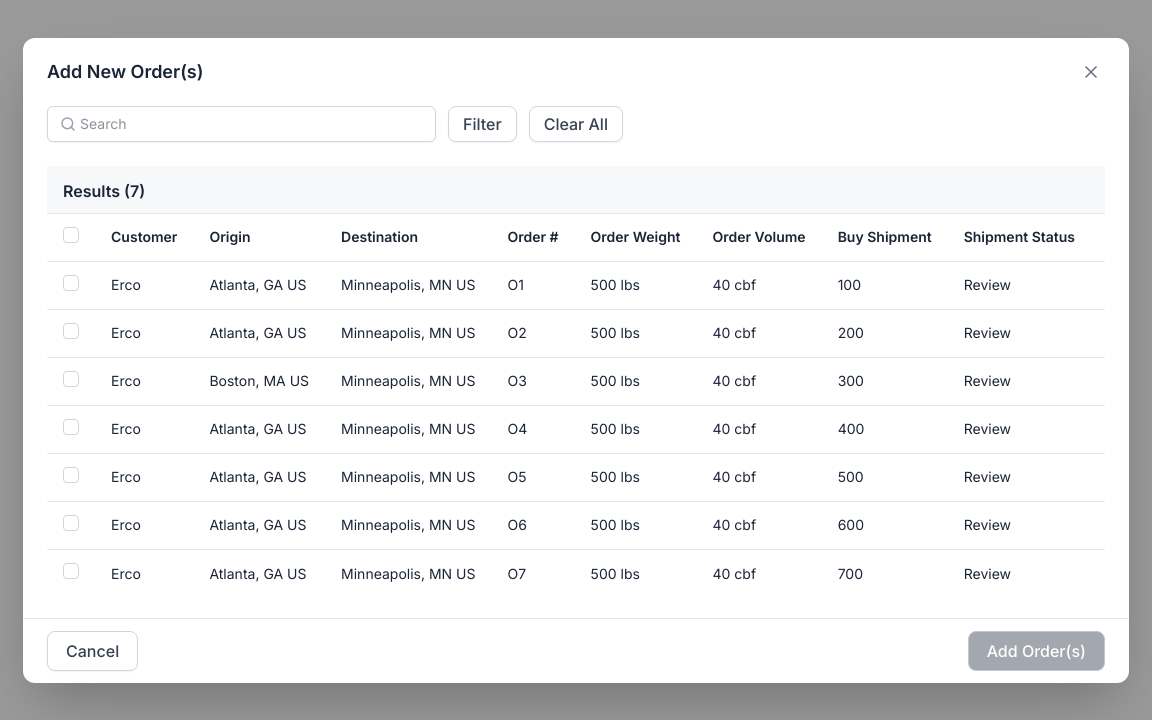
Scenario: search narrows the grid; Clear All restores it
This screenshot has width=1152, height=720.
Type "bost" into the field with placeholder "Search".
click(252, 124); type("bost")  # box [80,114,423,134]
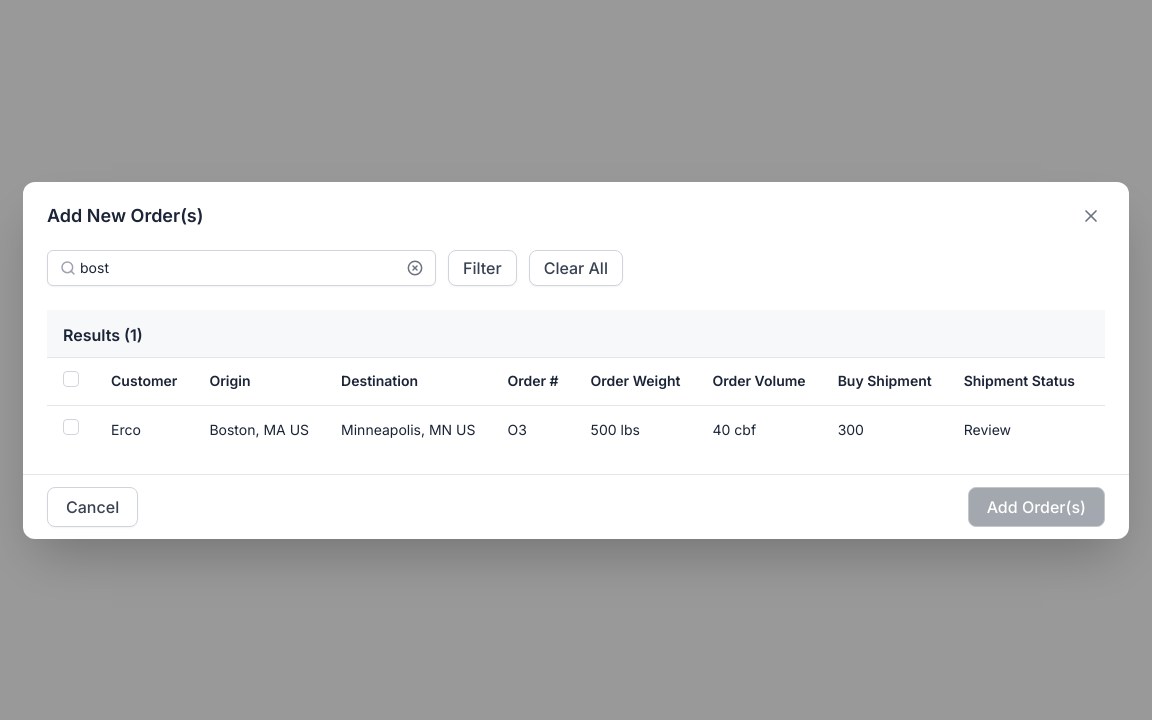
Expected: the text "Results (1)" is shown, [63,323,143,347]
Click the button "Clear All".
click(576, 268)  # box [529,250,623,286]
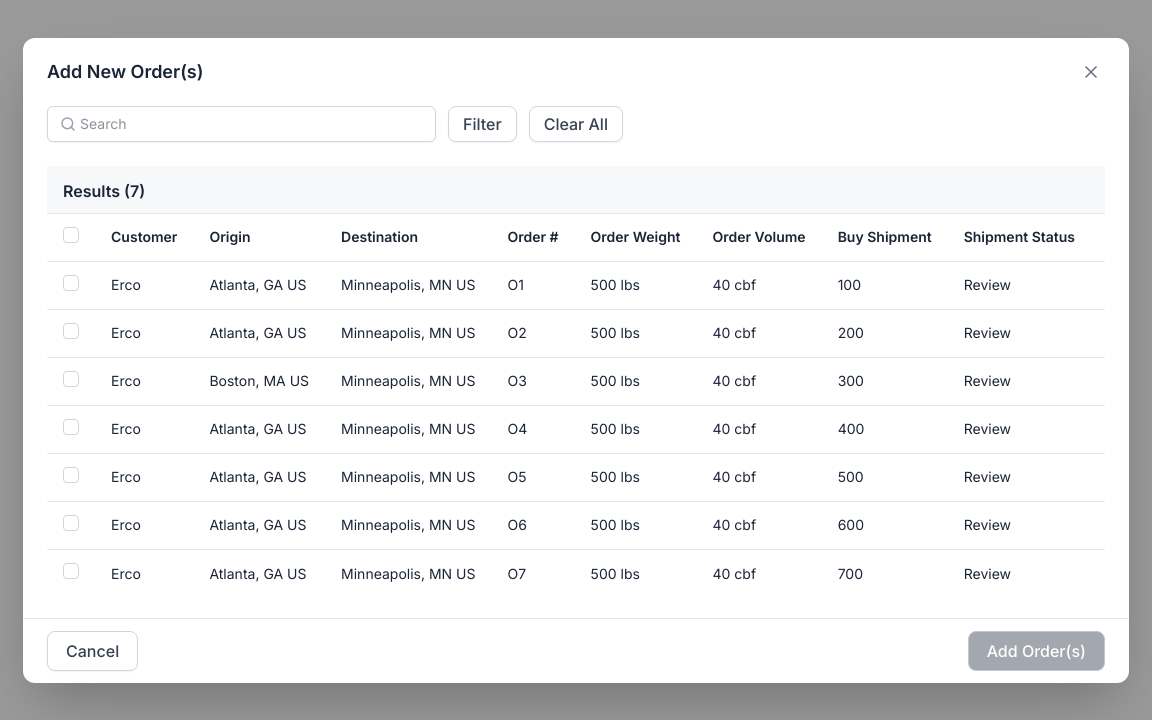
Expected: the text "Results (7)" is shown, [63,179,145,203]
